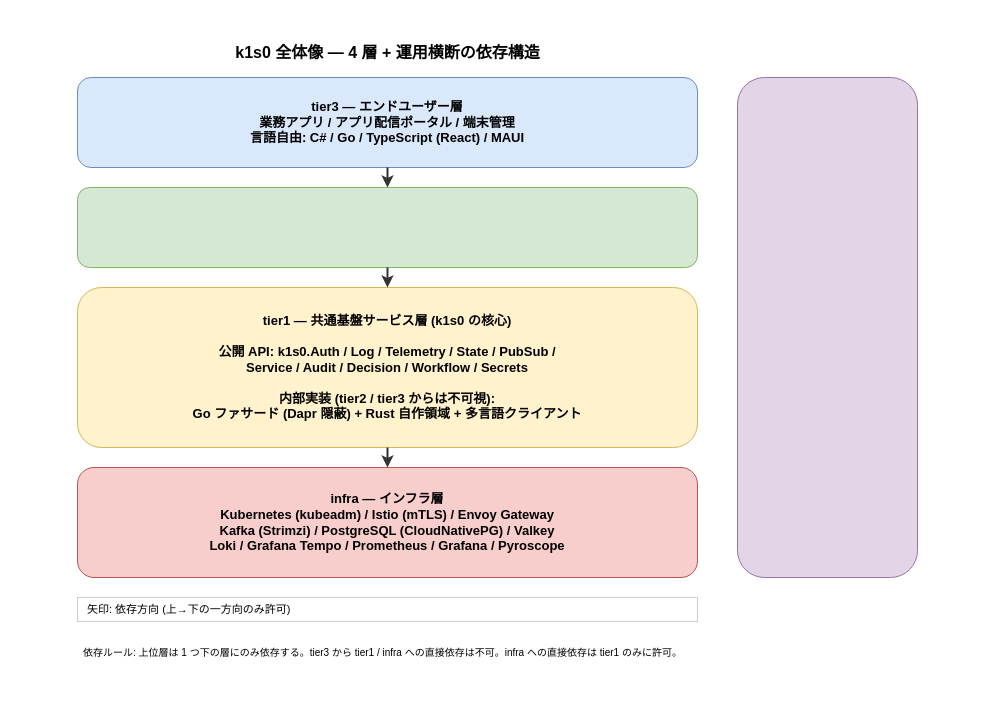
Image size: 994x714. Some labels were removed from this diagram. The box of each missing label's shape, as (x1, y1, x2, y2) in pixels:
operation — 運用横断 (全層を横断する) Argo CD Backstage Harbor Renovate OpenBao Litmus: (736, 76, 918, 578)
tier2 — ドメインサービス層 業務ドメインロジック (マイクロサービス群) 言語自由: C# / Go: (76, 186, 698, 268)
